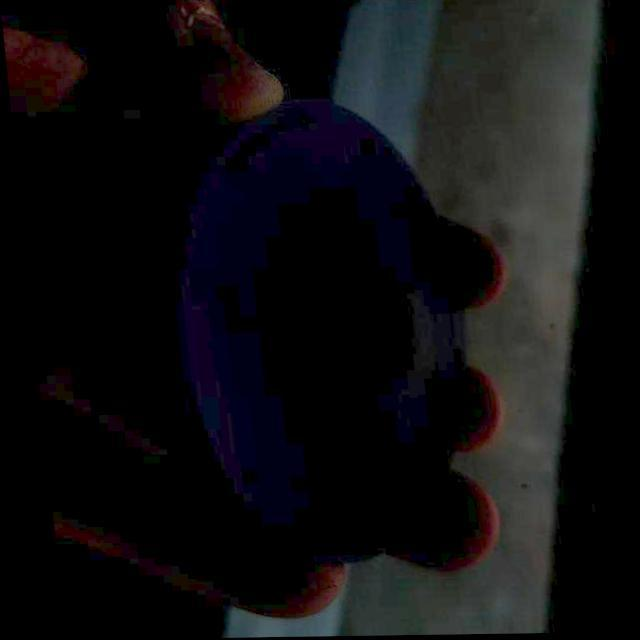zits: (283, 400, 294, 416), (334, 396, 347, 408), (364, 271, 378, 282), (361, 394, 372, 408), (310, 403, 320, 418), (316, 372, 326, 386), (274, 256, 284, 270), (276, 310, 288, 321), (358, 357, 370, 368), (316, 354, 325, 368), (286, 356, 296, 368), (299, 394, 308, 406), (330, 456, 340, 466), (352, 374, 362, 384), (341, 408, 350, 418), (345, 448, 354, 458), (318, 240, 329, 248)
